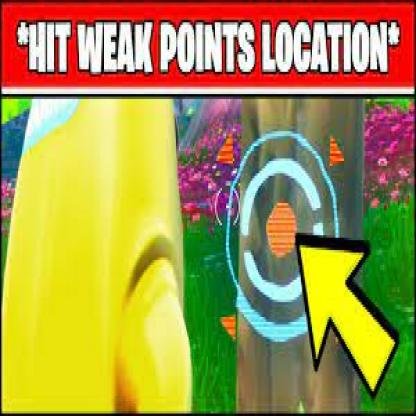person: (209, 129, 298, 362)
